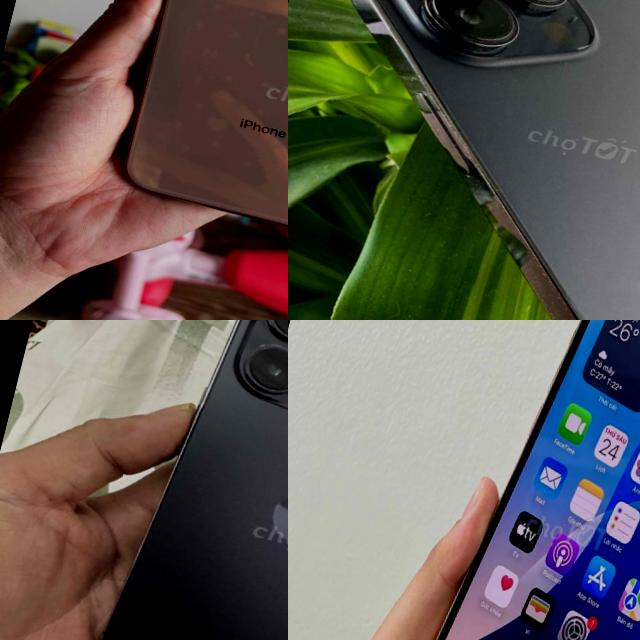gen_12_13: (387, 320, 640, 640)
gen_14: (288, 0, 640, 320), (88, 320, 288, 640)
gen_x_xs: (91, 0, 288, 261)
